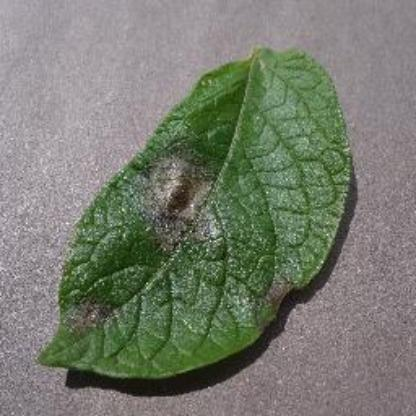Late-Blight: (34, 39, 356, 379)
